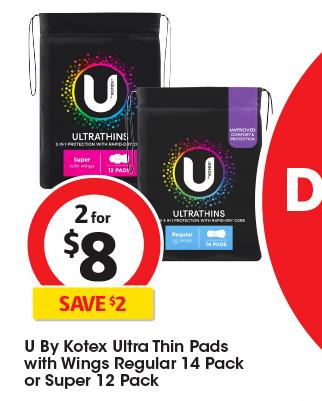description_block: (13, 334, 258, 398)
price_main: (15, 185, 165, 283)
product_image_block: (31, 12, 272, 271)
promo_text_block: (26, 284, 166, 326)
